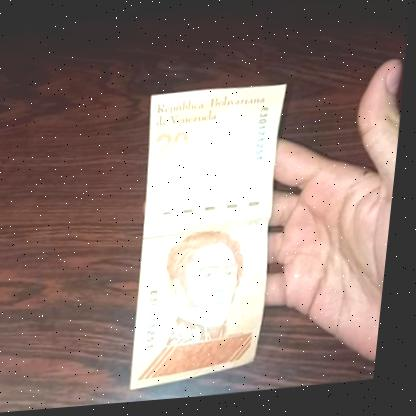twenty-front-vef: (130, 85, 292, 394)
